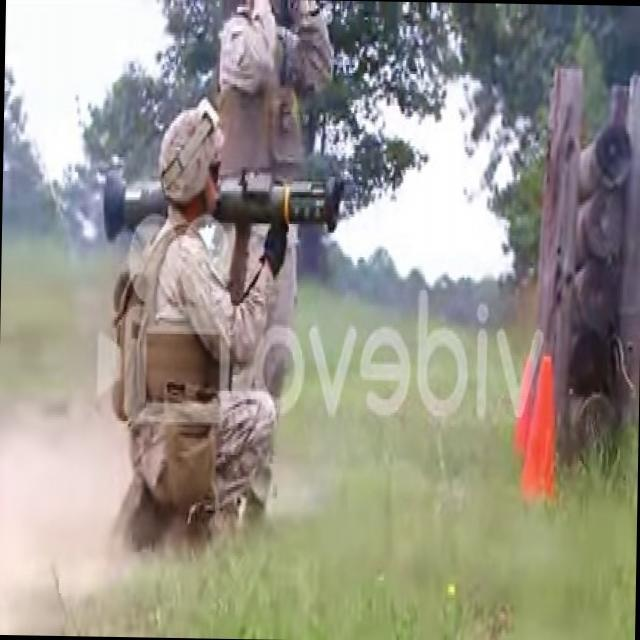rocket: (99, 167, 336, 240)
